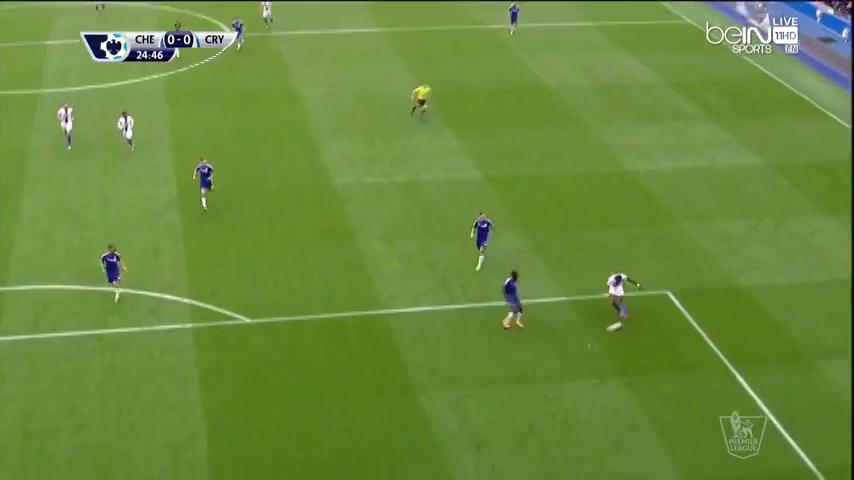football: (605, 320, 623, 334)
